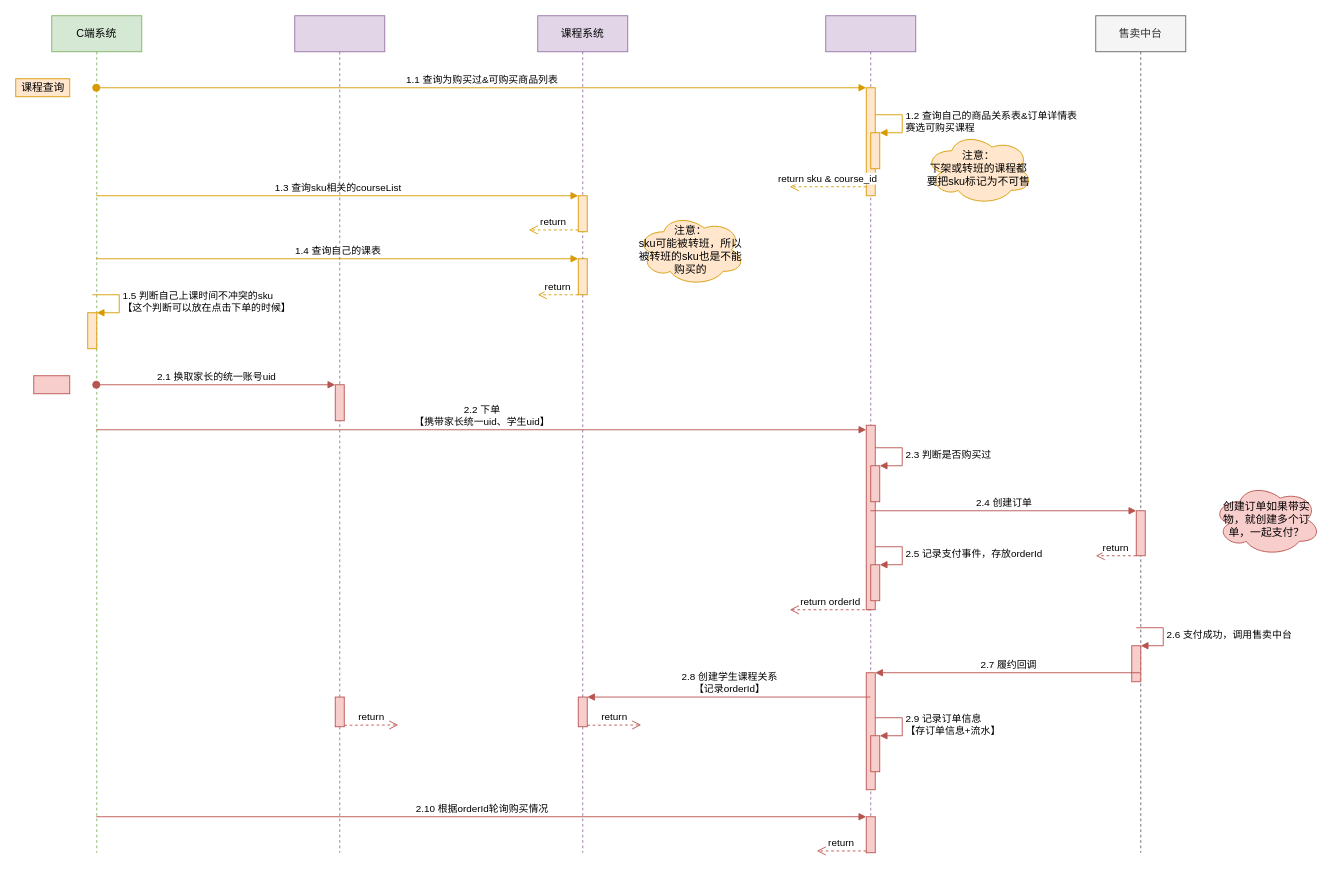
Some shapes in this 1337 by 876 pixel diagram are drawn without their labels. The shapes that lost their labels are listed below. From the top down, each one's centre as x and y in pixels, then its label:
At (51,384): "下单".
At (339,434): "权限系统".
At (870,434): "售卖系统".
